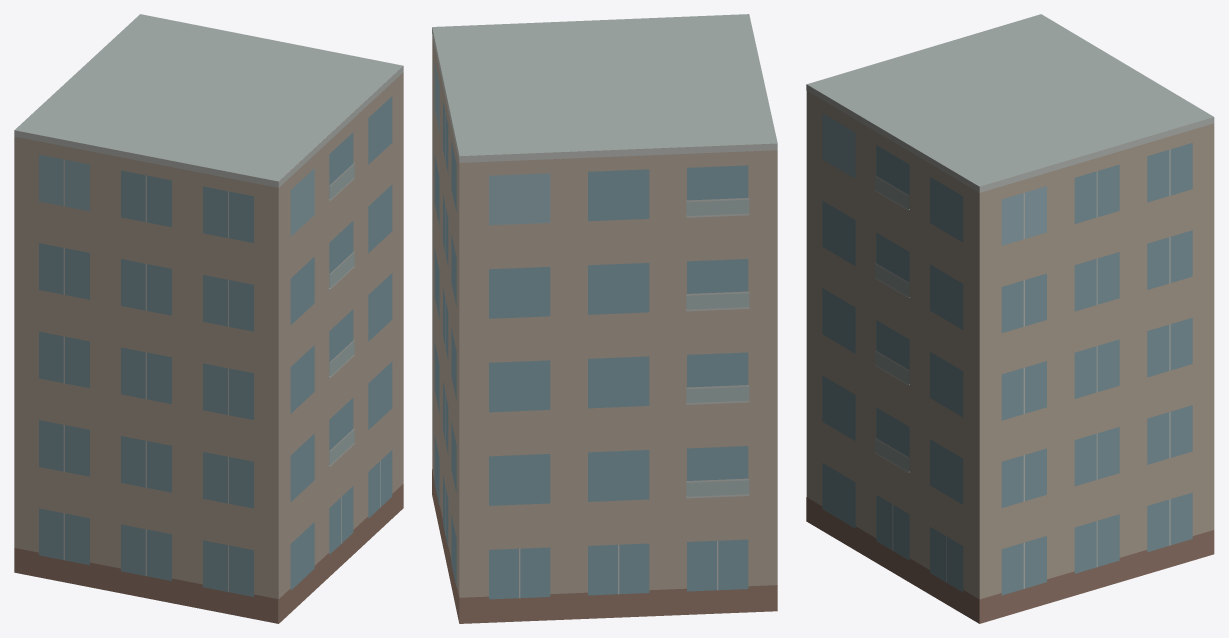
The model's file is survey-upis-32884310.glb.
3 renders of one model, left to right at view 1: azimuth 30°, elevation 25°; view 2: azimuth 150°, elevation 25°; view 3: azimuth 270°, elevation 25°, orthographic. The views are drawn at different scales.
Visible parts, largest first — view 1: survey-upis-32884310.tmp; view 2: survey-upis-32884310.tmp; view 3: survey-upis-32884310.tmp.
Part boxes in pixels (<box>): survey-upis-32884310.tmp: <box>14,14,403,623</box>; survey-upis-32884310.tmp: <box>432,14,777,623</box>; survey-upis-32884310.tmp: <box>806,14,1214,623</box>.
Size of the model in its own units: 14.41 by 17 by 14.38.
